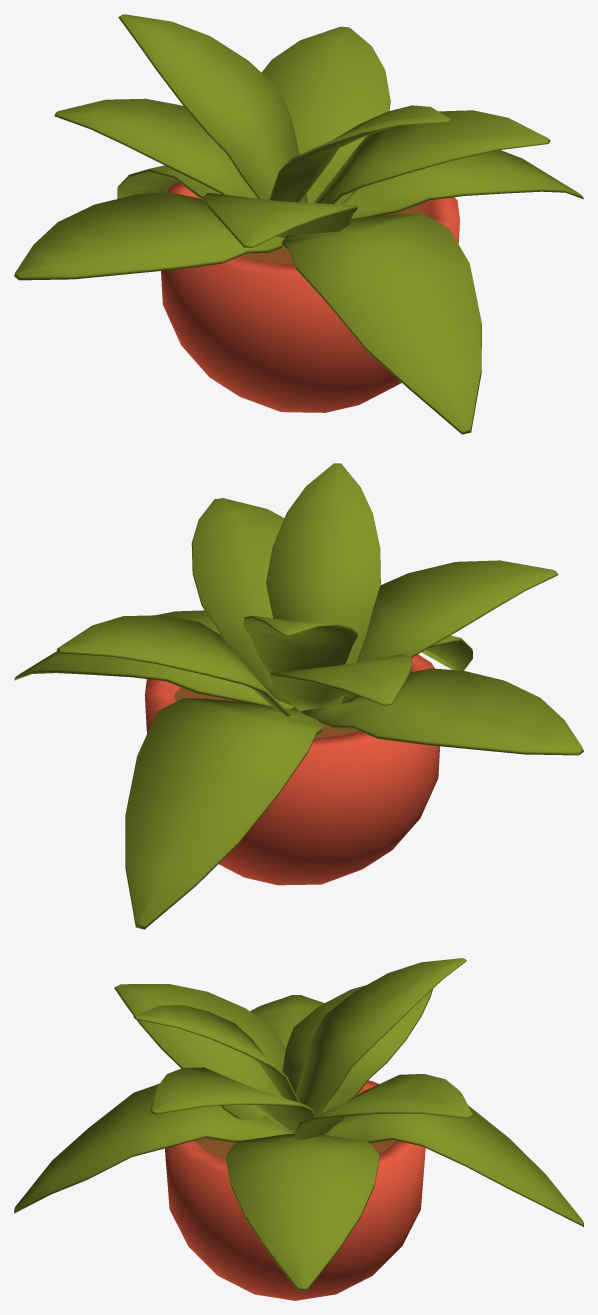
File: PottedPlant.glb
The picture shows the model from 3 angles, top to bottom: view 1: azimuth 30°, elevation 25°; view 2: azimuth 150°, elevation 25°; view 3: azimuth 270°, elevation 25°; orthographic projection. The views are drawn at different scales.
Visible parts, largest first — view 1: Plane.008; view 2: Plane.008; view 3: Plane.008.
Boxes of the visible parts, <box> form: Plane.008: <box>14,14,583,434</box>; Plane.008: <box>14,463,583,929</box>; Plane.008: <box>14,958,583,1300</box>.
Bounding box in the file's own units: 4.31 × 2.44 × 4.31.
